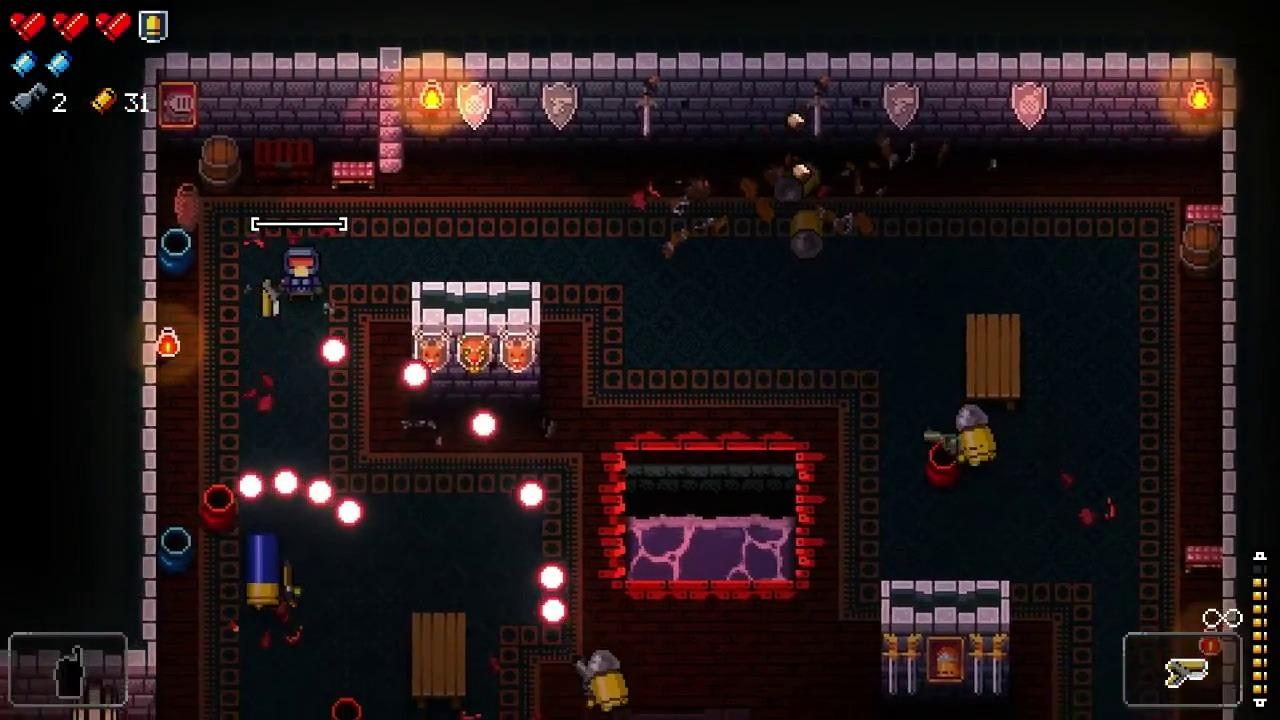blue_shotgun_kin: (246, 532, 280, 609)
bullet: (467, 408, 499, 443), (319, 335, 351, 368), (516, 478, 546, 511), (270, 468, 302, 498), (540, 596, 568, 629), (539, 561, 566, 594), (336, 498, 364, 529), (306, 478, 334, 508), (237, 471, 263, 501), (402, 362, 429, 390)
bullet_kin: (587, 649, 629, 712), (957, 405, 998, 467)
player: (282, 246, 321, 301)
table: (966, 314, 1019, 414), (412, 612, 465, 710)
water_pit: (599, 430, 827, 600)
